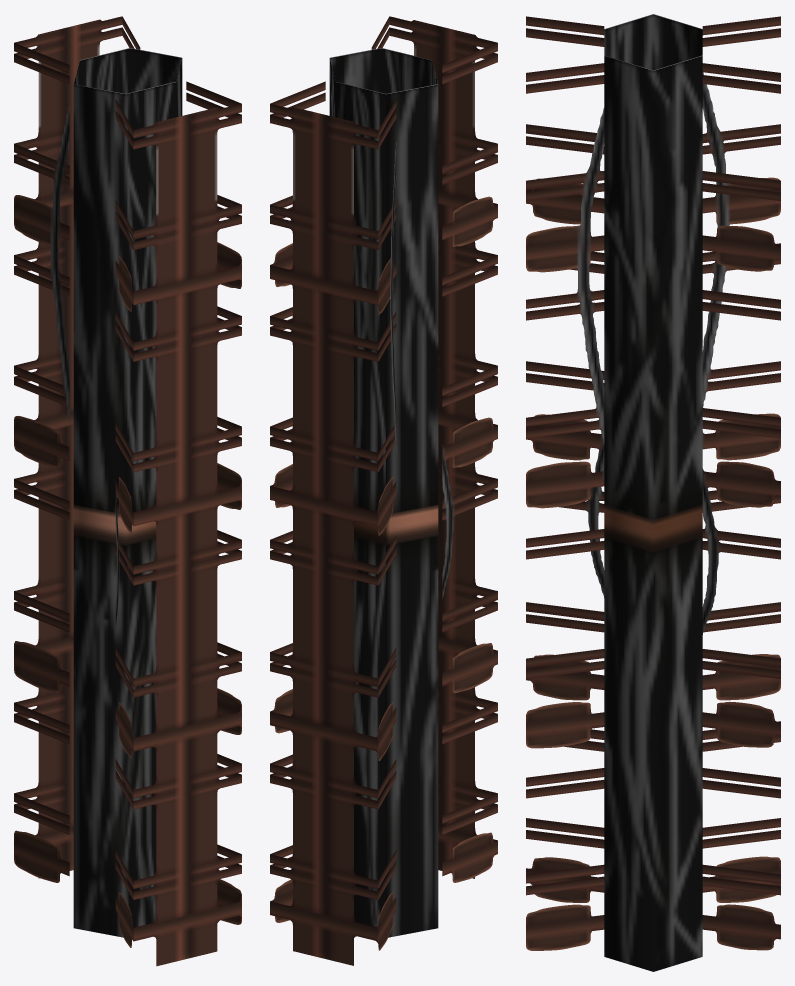
The model's file is cables_droit.fbx.
3 renders of one model, left to right at view 1: azimuth 30°, elevation 25°; view 2: azimuth 150°, elevation 25°; view 3: azimuth 270°, elevation 25°, orthographic. The views are drawn at different scales.
Parts seen in each view (by area): view 1: cables_b_droit, cables_droit; view 2: cables_b_droit, cables_droit; view 3: cables_droit, cables_b_droit.
Boxes of the visible parts, <box> form: cables_b_droit: <box>14,16,241,966</box>; cables_droit: <box>73,48,182,937</box>; cables_b_droit: <box>270,16,497,965</box>; cables_droit: <box>329,48,438,937</box>; cables_droit: <box>604,14,702,971</box>; cables_b_droit: <box>526,16,780,950</box>.
Bounding box in the file's own units: 0.5241 × 3.9 × 1.
